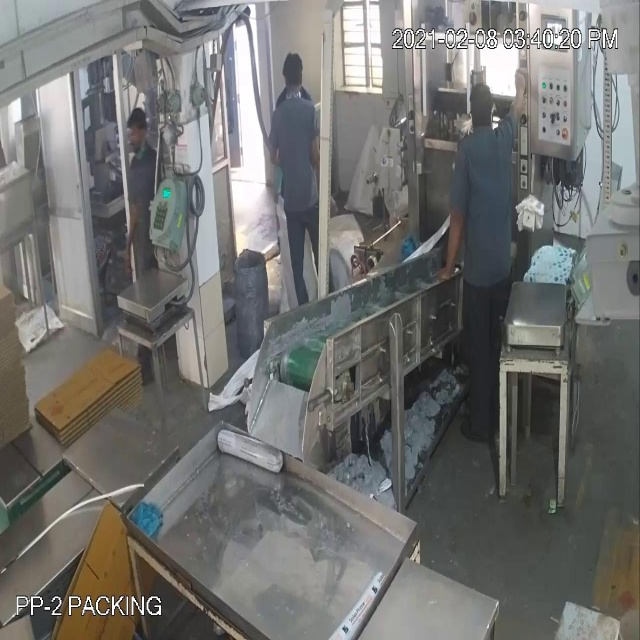Sin_guantes: (502, 57, 537, 148), (434, 195, 468, 288)
